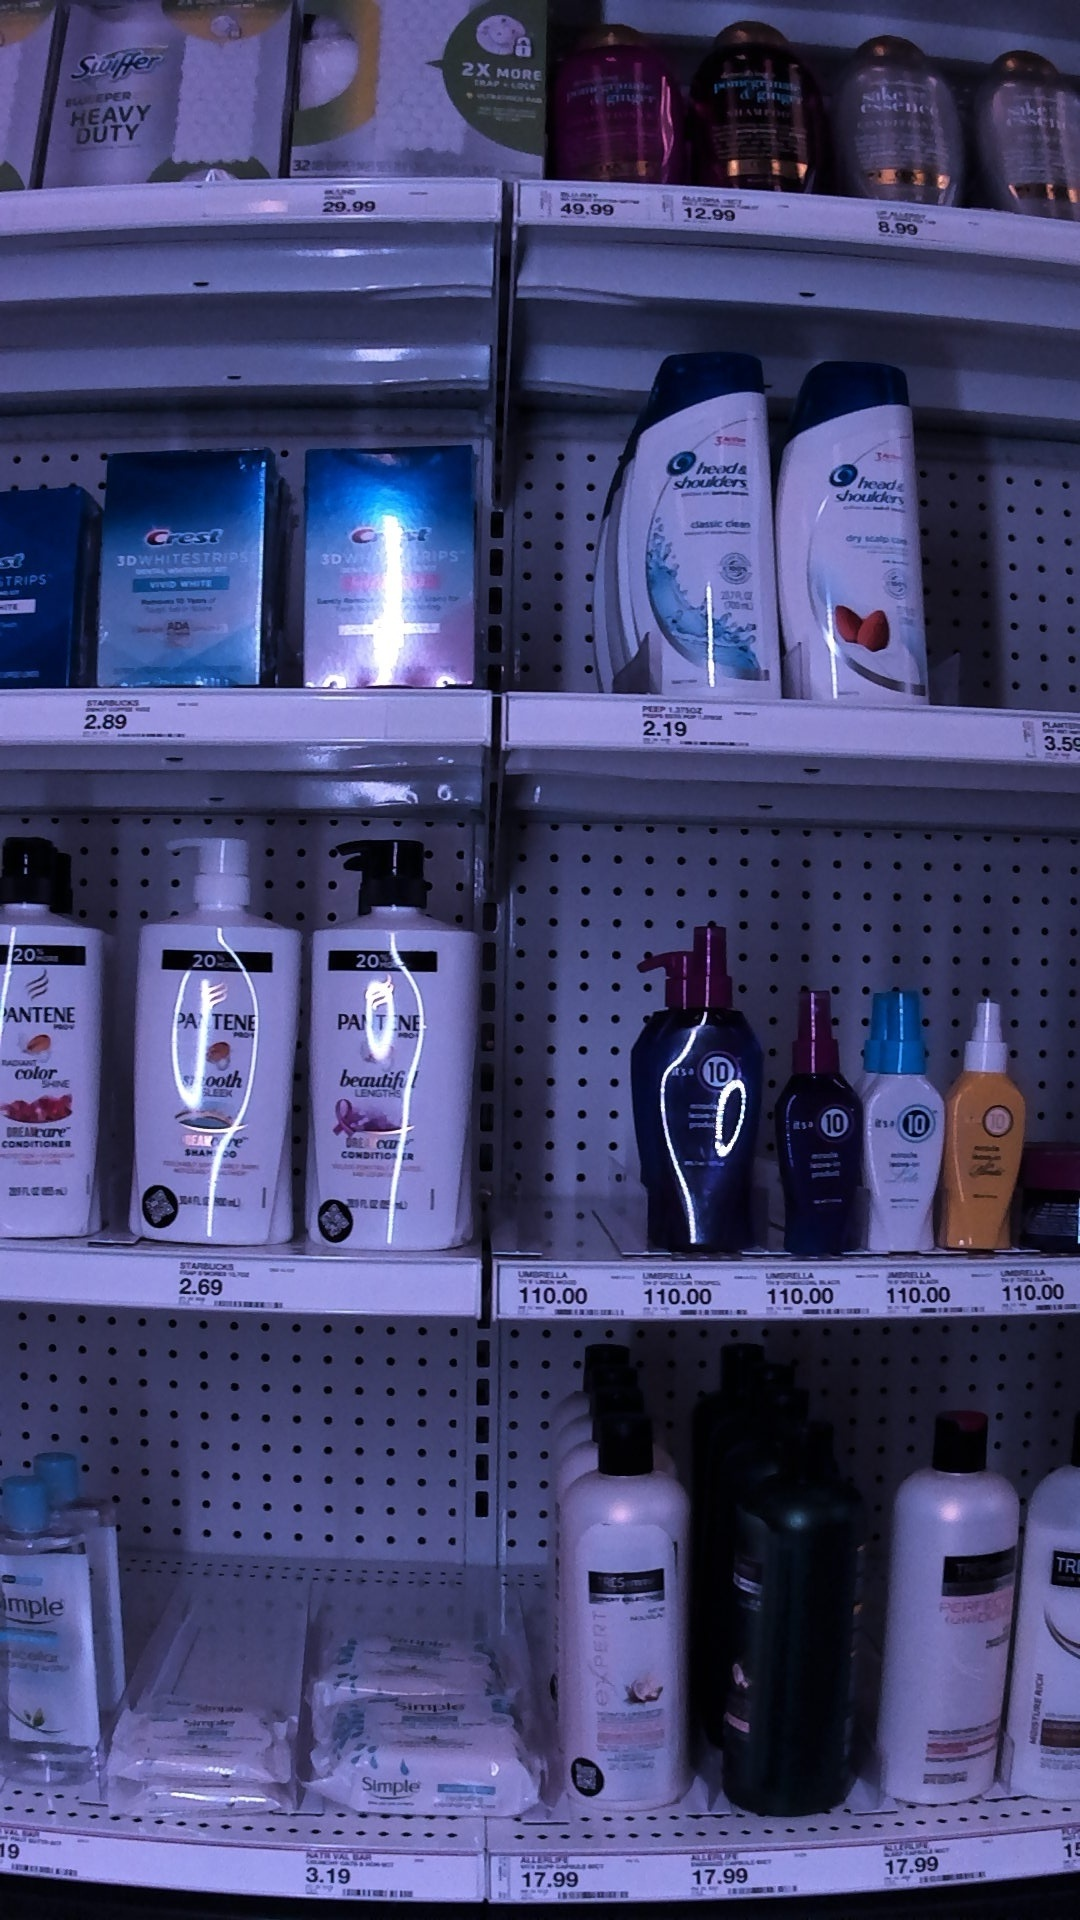ptag: (487, 1846, 629, 1920), (298, 1836, 425, 1911), (495, 1255, 626, 1327), (171, 1253, 298, 1320), (632, 695, 769, 757), (642, 1253, 749, 1327), (680, 1837, 795, 1900), (80, 686, 198, 746), (880, 1836, 1000, 1894), (762, 1262, 866, 1324), (886, 1255, 975, 1324), (860, 196, 969, 249), (996, 1251, 1080, 1315), (305, 171, 396, 229), (535, 185, 629, 231), (669, 186, 756, 233)
